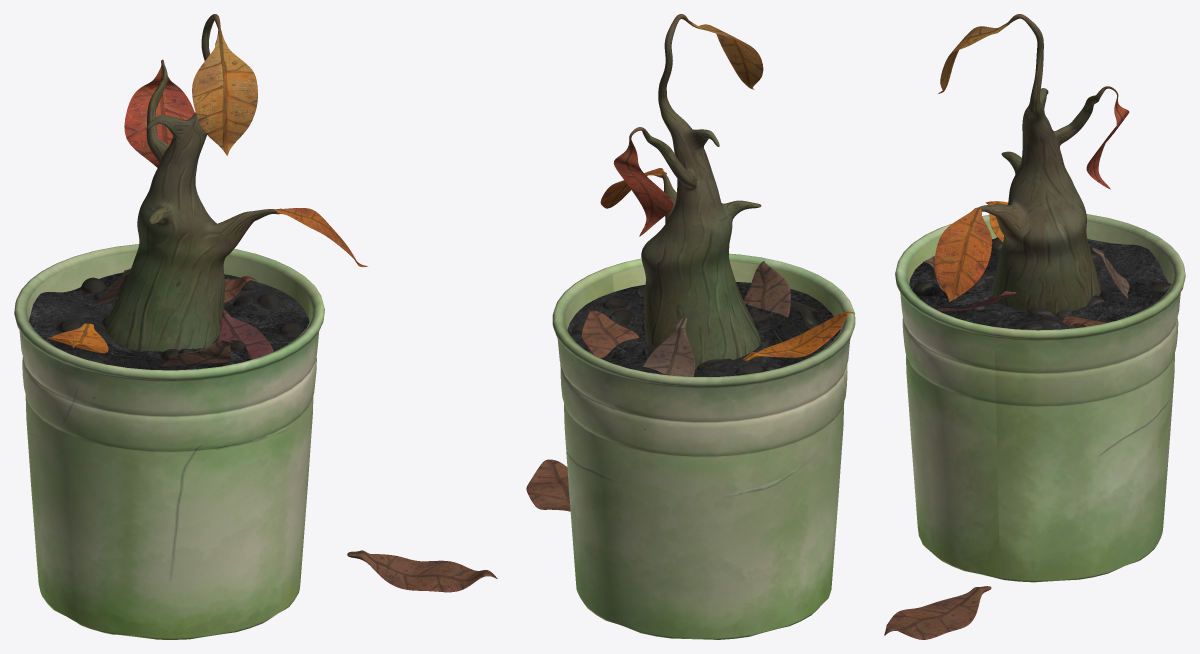
The model's file is dried_house_plant.glb.
The picture shows the model from 3 angles, left to right: view 1: azimuth 30°, elevation 25°; view 2: azimuth 150°, elevation 25°; view 3: azimuth 270°, elevation 25°; orthographic projection. The views are drawn at different scales.
Visible parts, largest first — view 1: Flower_Pot, Flower, Dirt, Leave_6, Leave_2, Leave_5, Leave_1; view 2: Flower_Pot, Flower, Dirt, Leave_6, Leave_4, Leave_1, Leave_5, Leave_3; view 3: Flower_Pot, Flower, Dirt, Leave_6, Leave_4.
Boxes of the visible parts, bbox=[...] form: Flower_Pot: bbox=[14, 244, 324, 639]; Flower: bbox=[105, 14, 367, 351]; Dirt: bbox=[29, 272, 309, 370]; Leave_6: bbox=[347, 550, 497, 592]; Leave_2: bbox=[218, 310, 273, 359]; Leave_5: bbox=[161, 340, 232, 366]; Leave_1: bbox=[47, 323, 108, 353]; Flower_Pot: bbox=[552, 253, 855, 639]; Flower: bbox=[600, 14, 763, 369]; Dirt: bbox=[567, 282, 840, 376]; Leave_6: bbox=[526, 459, 570, 511]; Leave_4: bbox=[643, 317, 694, 429]; Leave_1: bbox=[743, 311, 854, 361]; Leave_5: bbox=[743, 261, 790, 317]; Leave_3: bbox=[581, 310, 639, 358]; Flower_Pot: bbox=[895, 214, 1185, 582]; Flower: bbox=[934, 14, 1129, 314]; Dirt: bbox=[909, 237, 1171, 330]; Leave_6: bbox=[884, 586, 991, 639]; Leave_4: bbox=[1091, 247, 1129, 297].
Bounding box in the file's own units: 0.3636 × 0.5236 × 0.2676.
2 materials, 2 textured.
